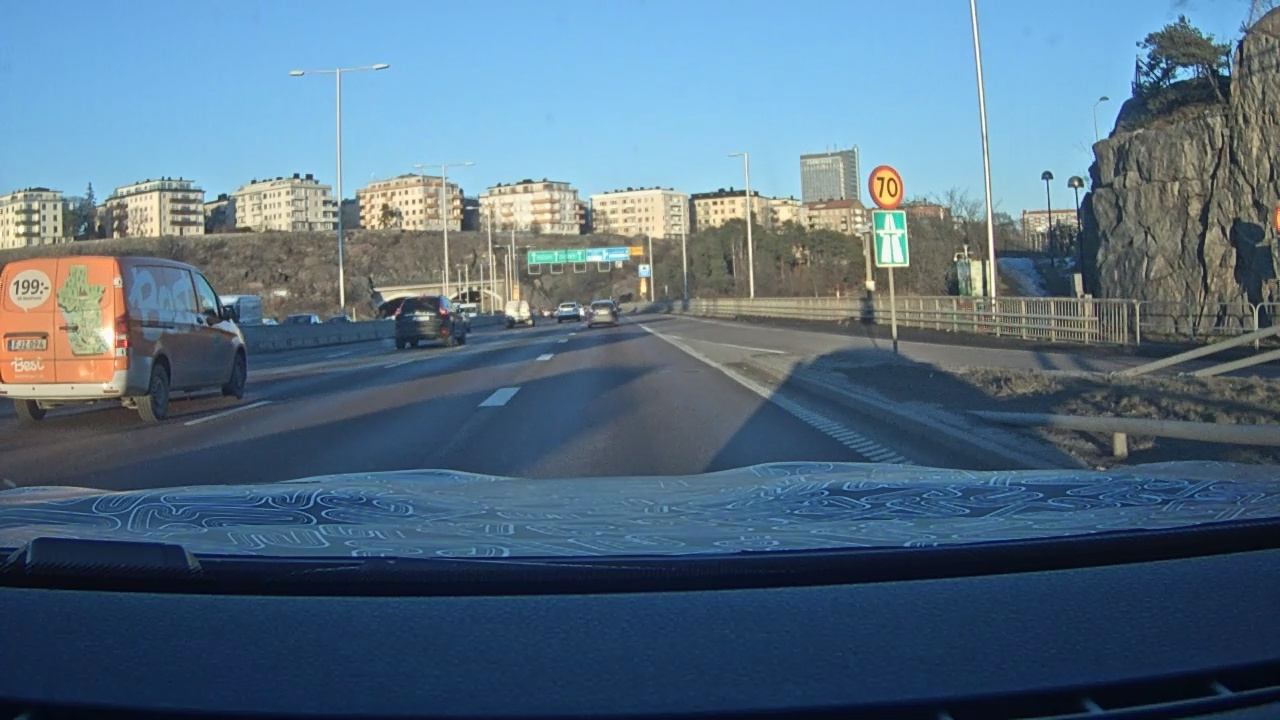Motorway_Begin: (870, 210, 908, 268)
